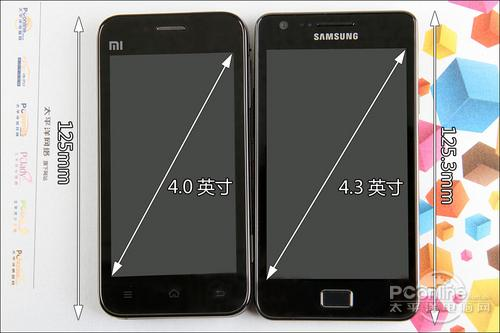phone: (255, 12, 422, 320), (98, 14, 249, 318)
